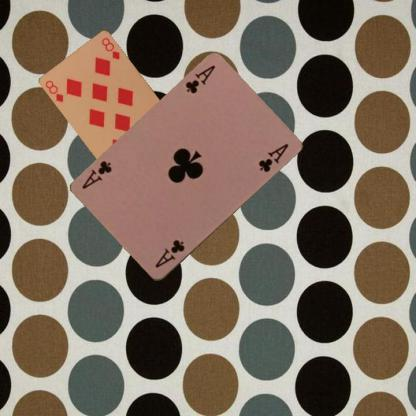8d: (42, 78, 64, 104)
Ac: (182, 62, 216, 96), (152, 237, 186, 270)
